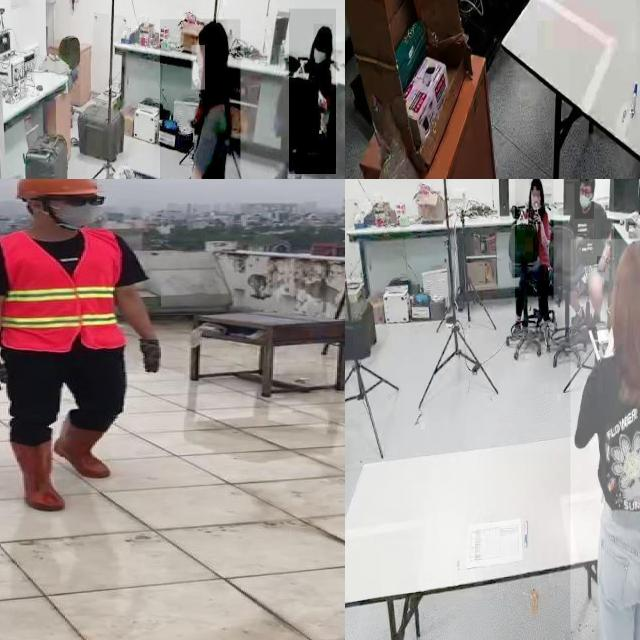boots: (6, 440, 67, 511), (56, 410, 113, 478)
face_mask: (574, 181, 594, 219), (191, 45, 205, 90), (312, 40, 329, 71)
face_nomask: (531, 190, 541, 208)
hand_noglove: (597, 256, 605, 273), (534, 209, 542, 225)
head_helmet: (16, 179, 108, 203)
head_nohelmet: (613, 238, 640, 285), (196, 18, 228, 44), (313, 24, 333, 40), (529, 179, 543, 186), (579, 179, 595, 182)
person: (0, 179, 164, 520), (570, 239, 640, 640), (160, 19, 241, 179), (289, 9, 337, 175), (562, 179, 614, 327), (515, 179, 554, 328)
vest: (0, 230, 126, 350)
